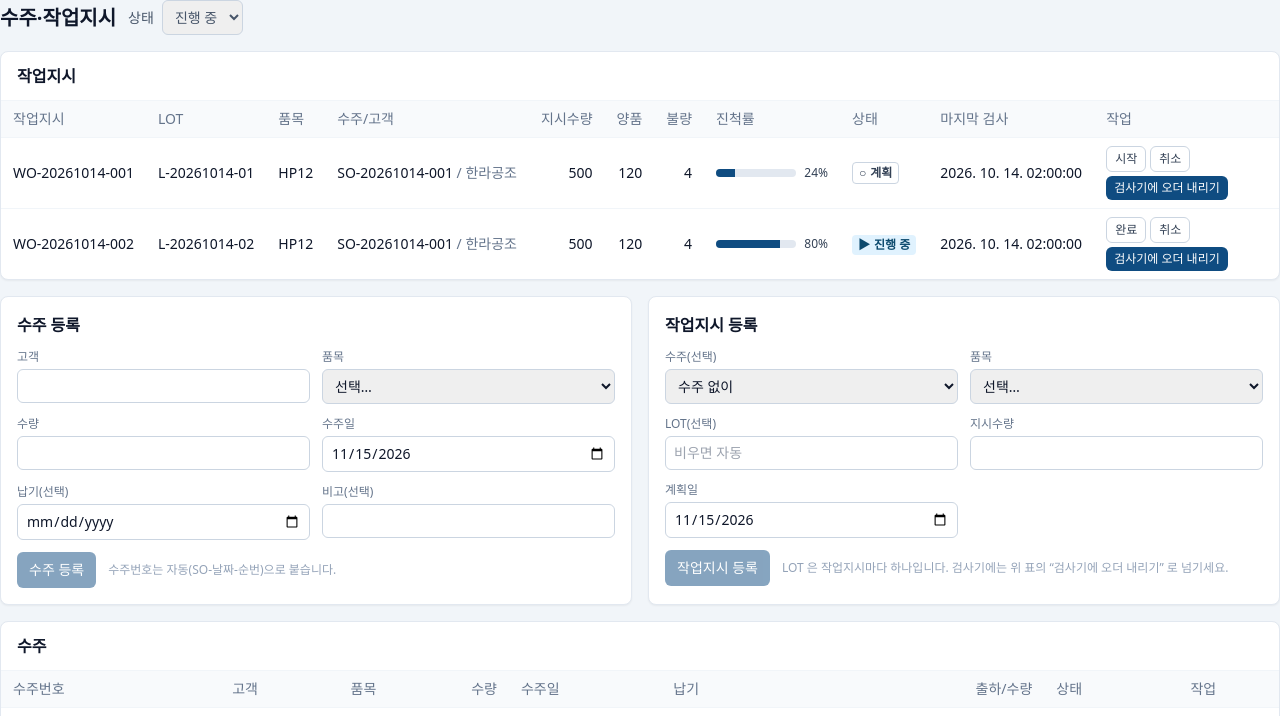
MesOrdersPage — 검사기에 오더 내리기 › 계획(PLANNED) 작업지시: AIVIS 현재 오더로 넘긴 뒤 진행 중(RUNNING)으로 바꾼다
The image size is (1280, 716).
Click the button with test id "wo-dispatch-1" at (1167, 188), box [1106, 176, 1228, 200]
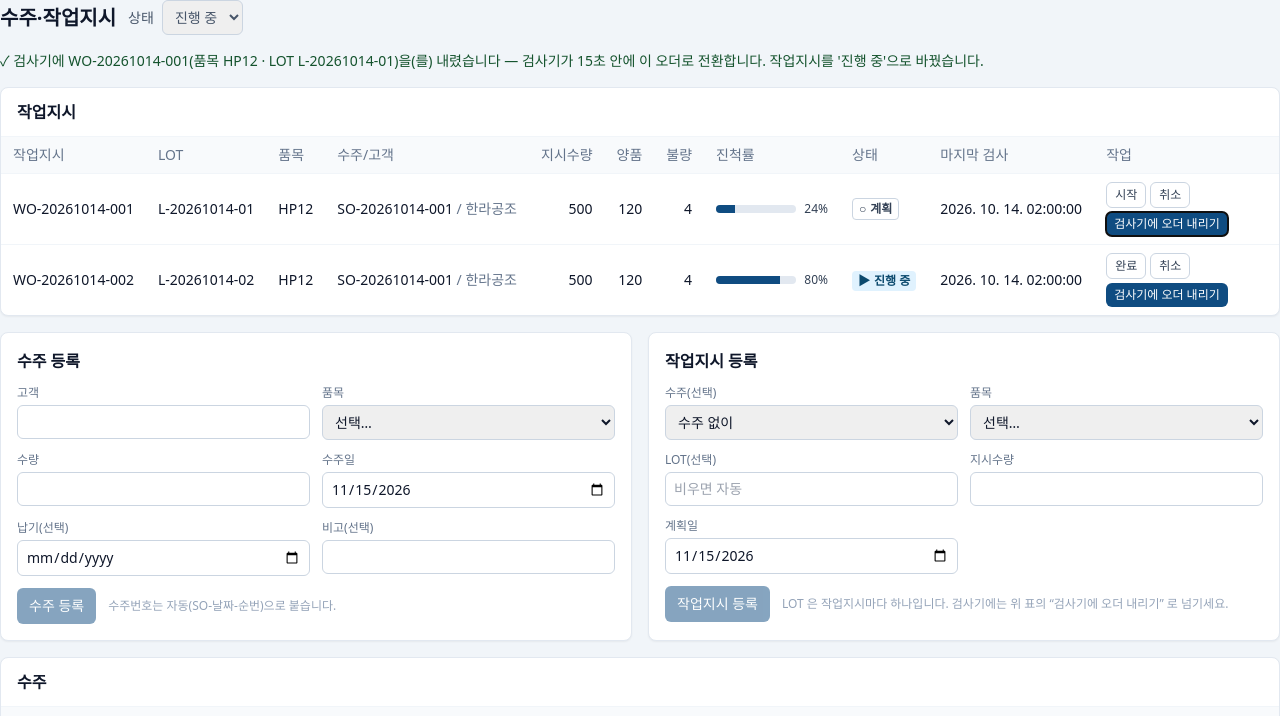
Expected: the message with test id "wo-msg" shows "15초", [13, 51, 984, 70]
Expected: the message with test id "wo-msg" shows "진행 중", [13, 51, 984, 70]
